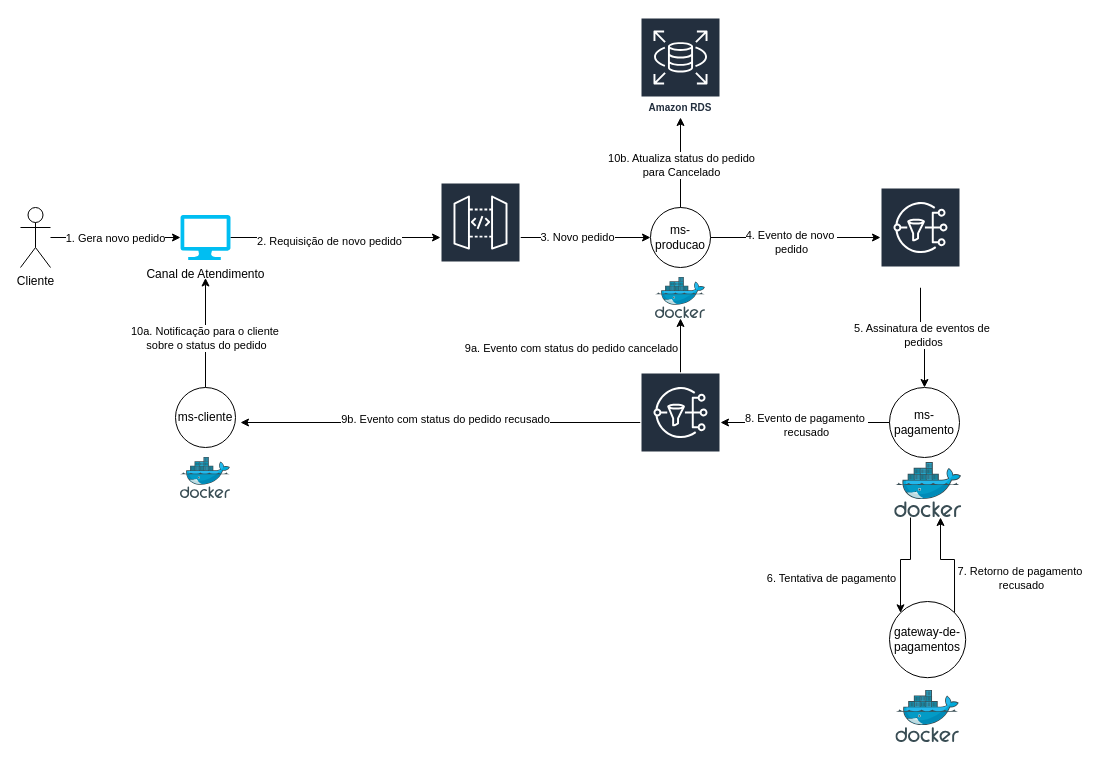
Some shapes in this 1102 by 760 pixel diagram are drawn without their labels. Each missing label, with the centre of its shape:
"Amazon API Gateway" belongs at pixel 480 237.
"SNS - checkout-topic" belongs at pixel 920 237.
"SNS - payment-status -topic" belongs at pixel 680 422.
